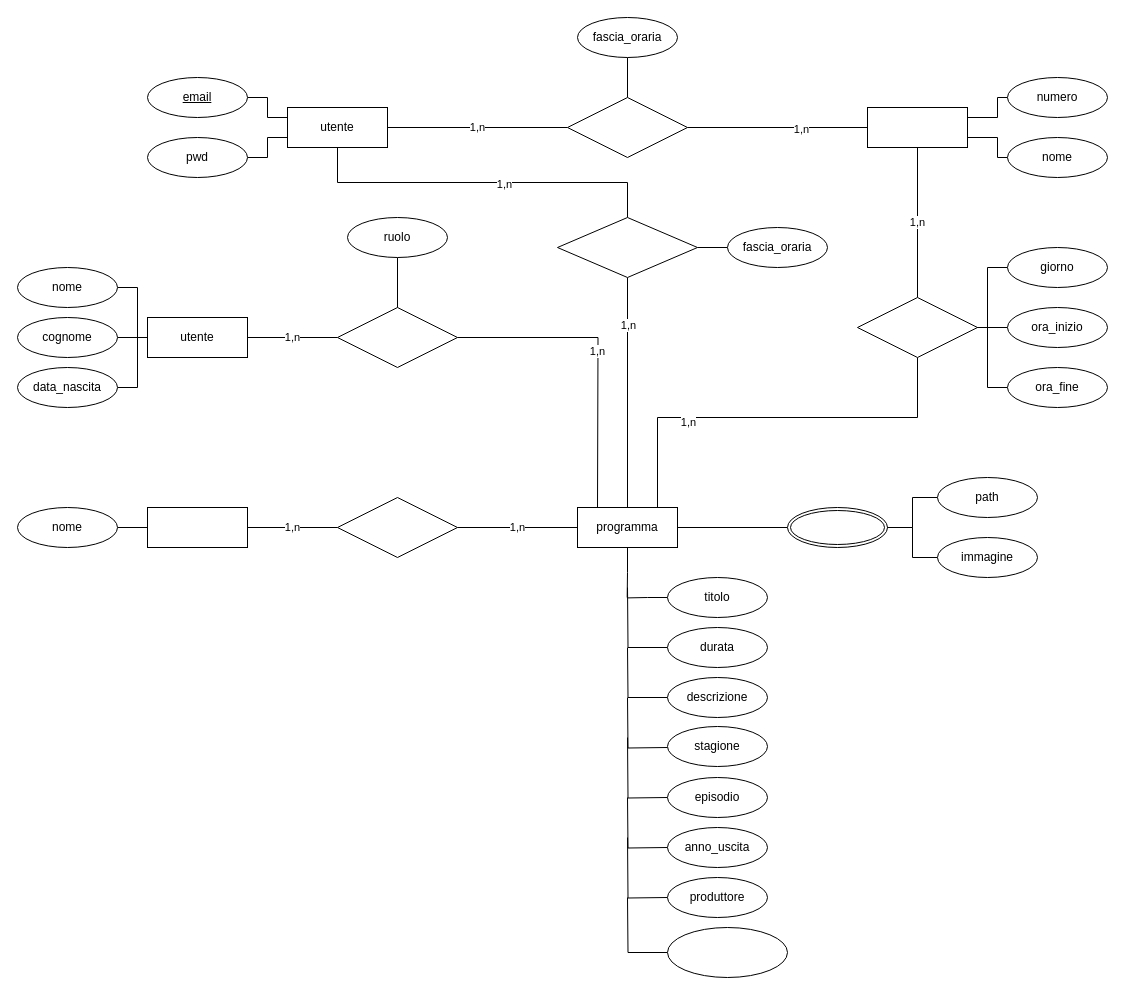
The diagram is 1125 pixels wide and 995 high, and some of its shapes have lost their labels. Here are the shapes that lost their labels. From the top down, the centre of each, then its label:
the point at 627,127: canale_preferito
the point at 917,127: canale
the point at 627,247: programma_preferito
the point at 397,337: partecipa
the point at 917,327: palinsesto
the point at 197,527: genere
the point at 397,527: possiede
the point at 837,527: link
the point at 727,952: descrizione_episodio
